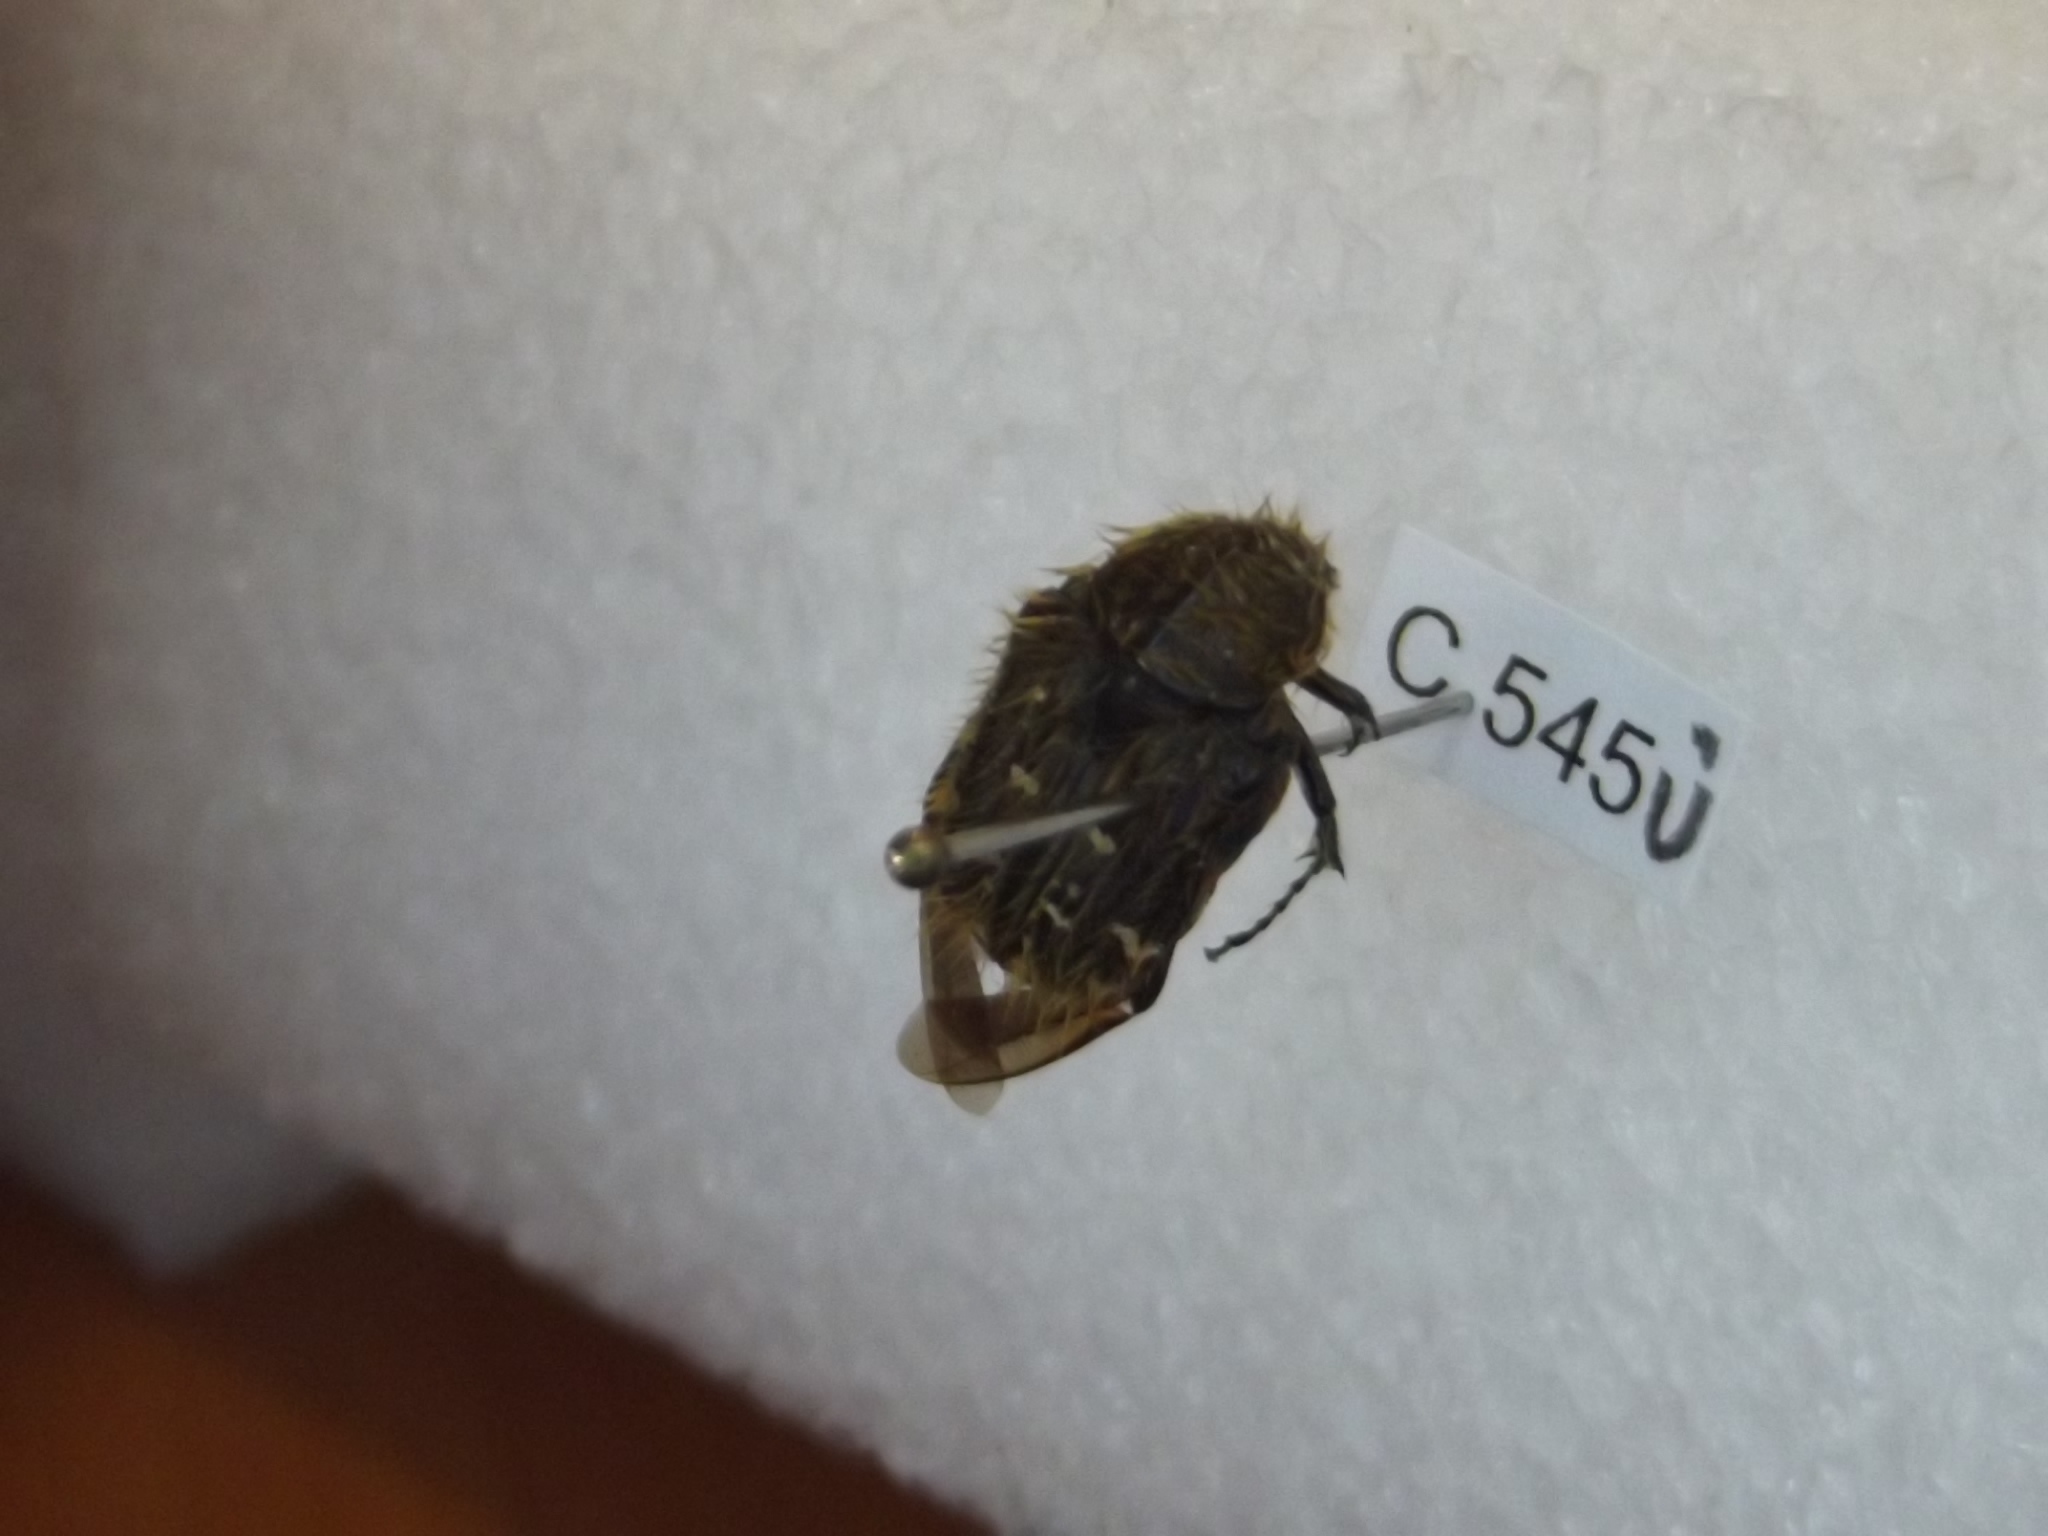Tropinota_hirta: (874, 423, 1392, 1139)
